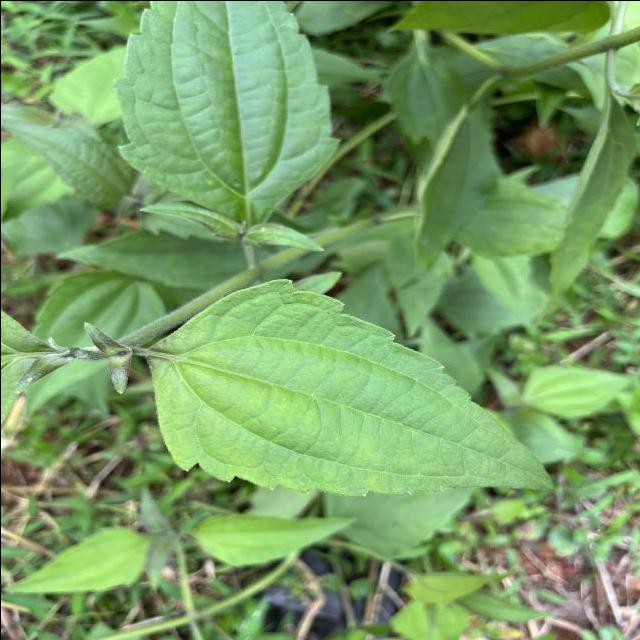Chromolaena odorata: (140, 273, 556, 501)
